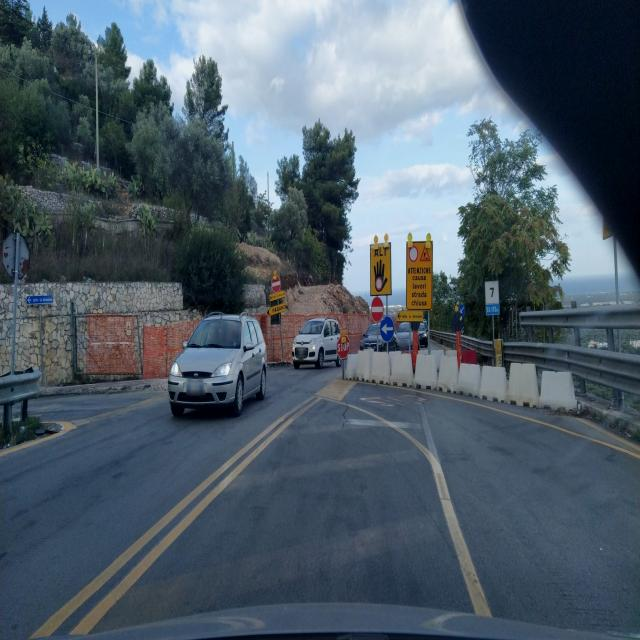car: (167, 312, 268, 418), (291, 316, 342, 370), (359, 320, 397, 351), (395, 320, 429, 350), (439, 331, 456, 349)
